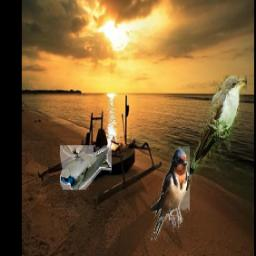Cuckoo: (180, 77, 248, 190)
Swallow: (152, 147, 191, 242), (61, 146, 113, 191)
